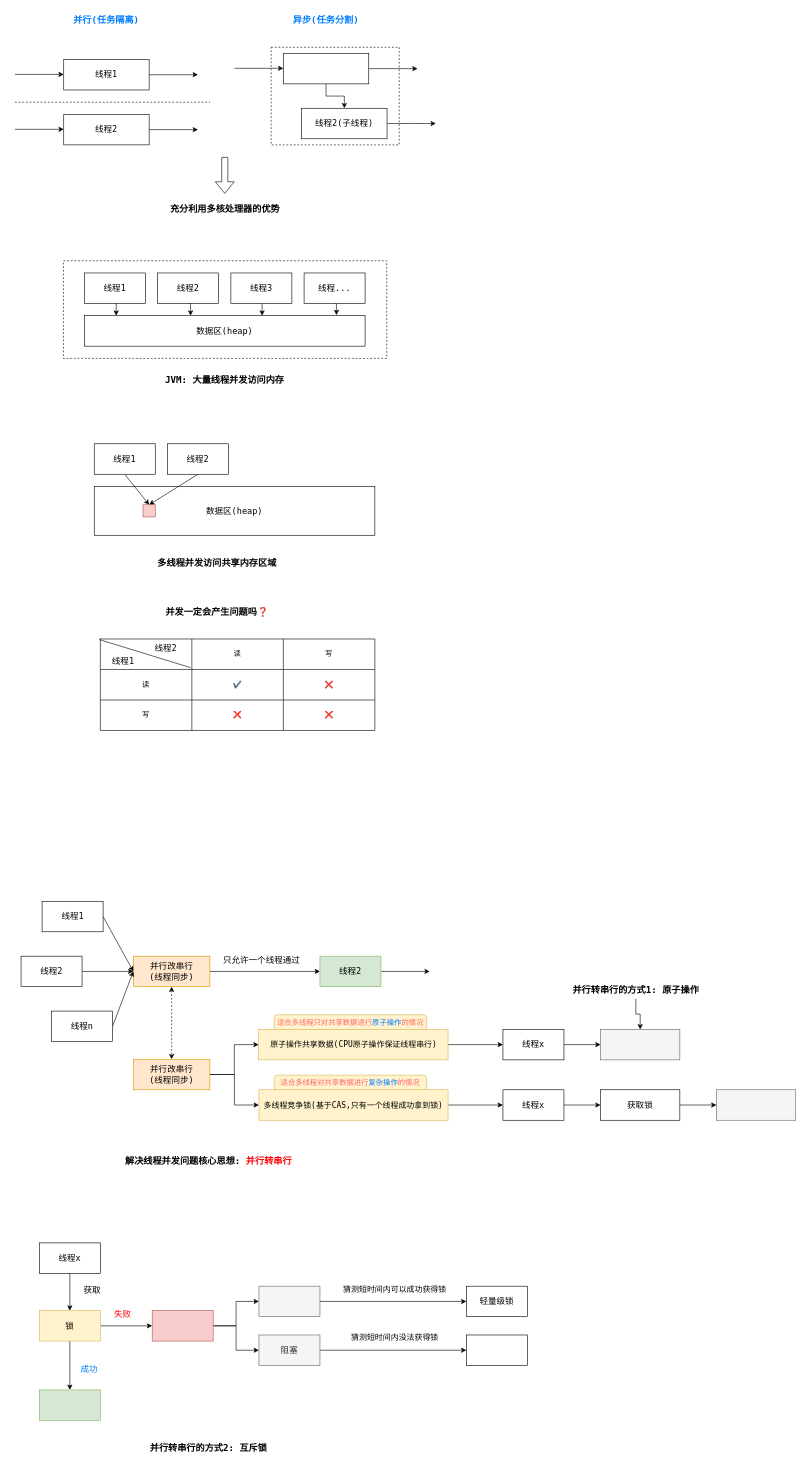
Image size: 806x1466. Some labels were removed from this diagram. Here are the shapes that lost their labels. From the top down, the box of each, then its label:
(283, 53, 369, 84): 线程1(父线程)
(600, 1029, 680, 1060): 原子操作共享数据
(716, 1089, 796, 1120): 操作共享数据
(258, 1286, 320, 1317): 重试
(152, 1310, 213, 1341): 失败策略
(466, 1334, 527, 1365): 重量级锁
(39, 1389, 100, 1420): 继续
